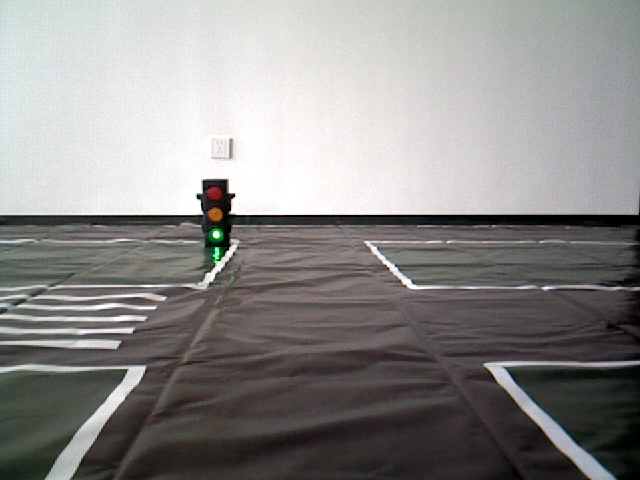green: (201, 182, 229, 242)
